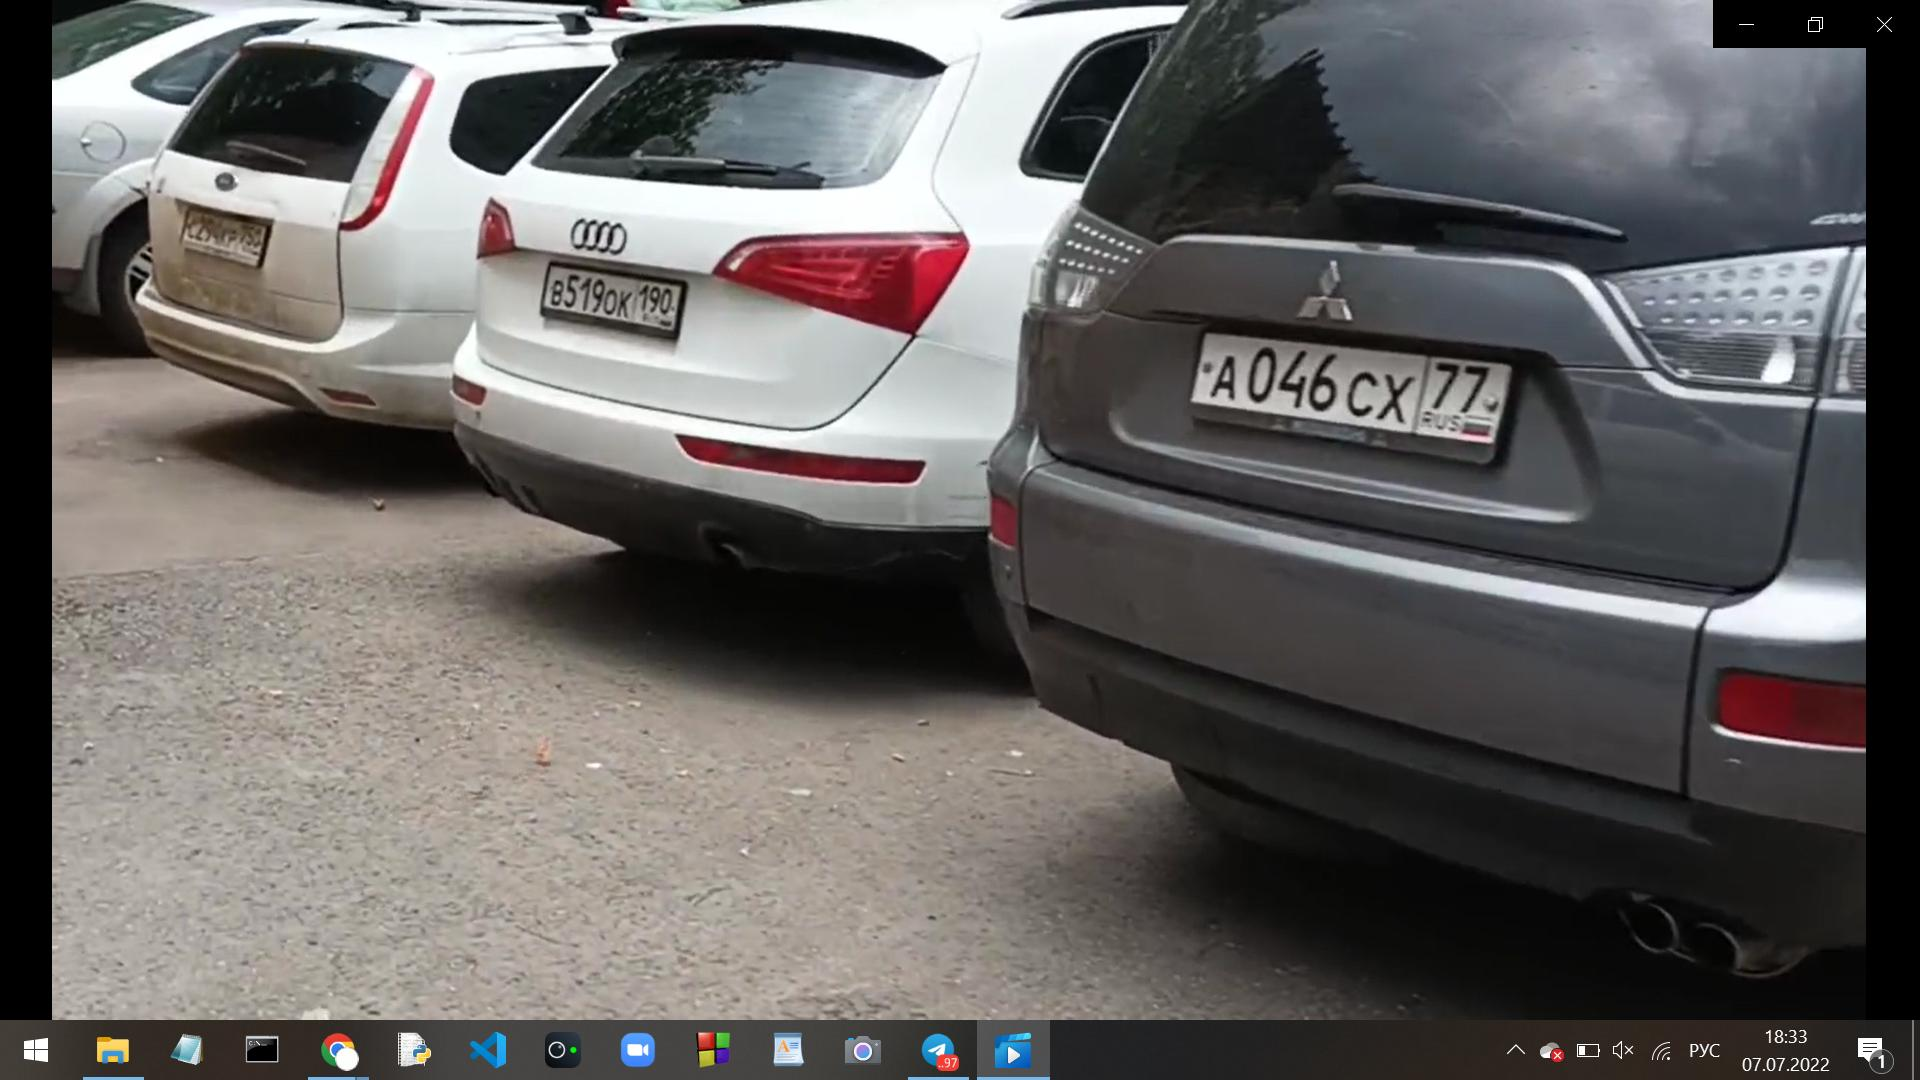plate: (1182, 327, 1519, 449), (549, 270, 680, 327), (182, 213, 273, 263)
